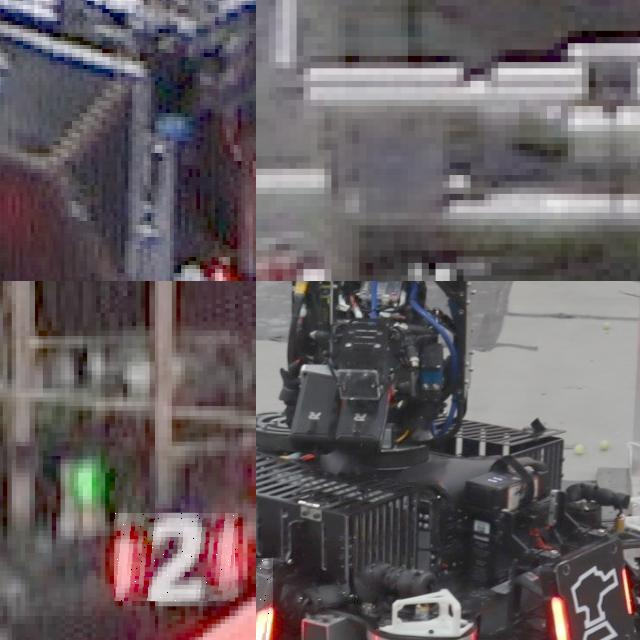R2: (114, 513, 238, 601)
Rs: (552, 553, 633, 640)
